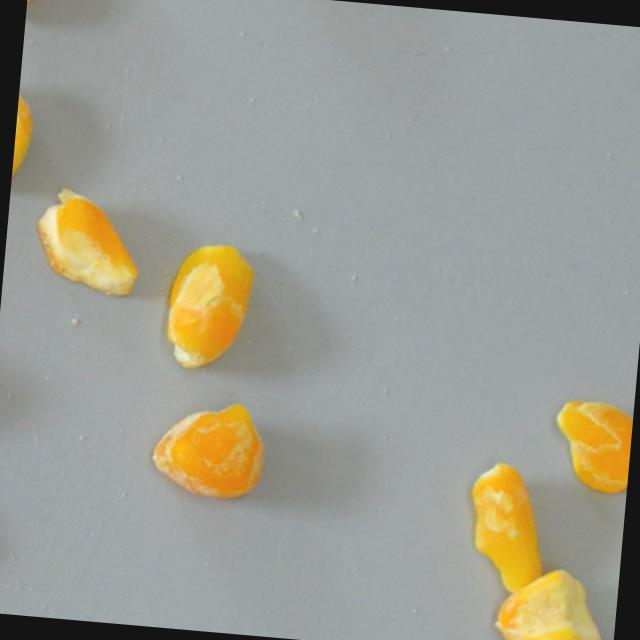dañado: (158, 233, 260, 382), (146, 391, 277, 507), (28, 181, 151, 303), (460, 456, 554, 598), (490, 558, 614, 640), (546, 388, 635, 499), (10, 67, 40, 198), (24, 0, 103, 35)
